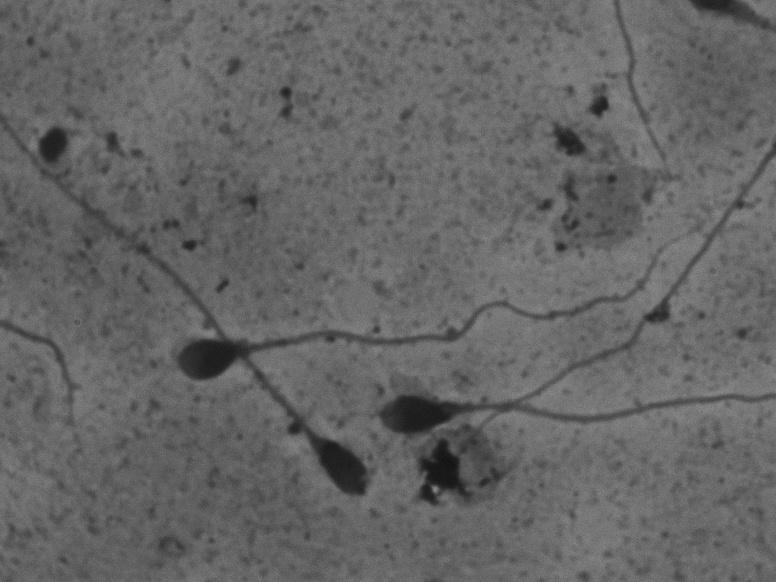Abnormal: (11, 119, 401, 505), (364, 361, 765, 450)
Normal: (148, 216, 705, 391)
